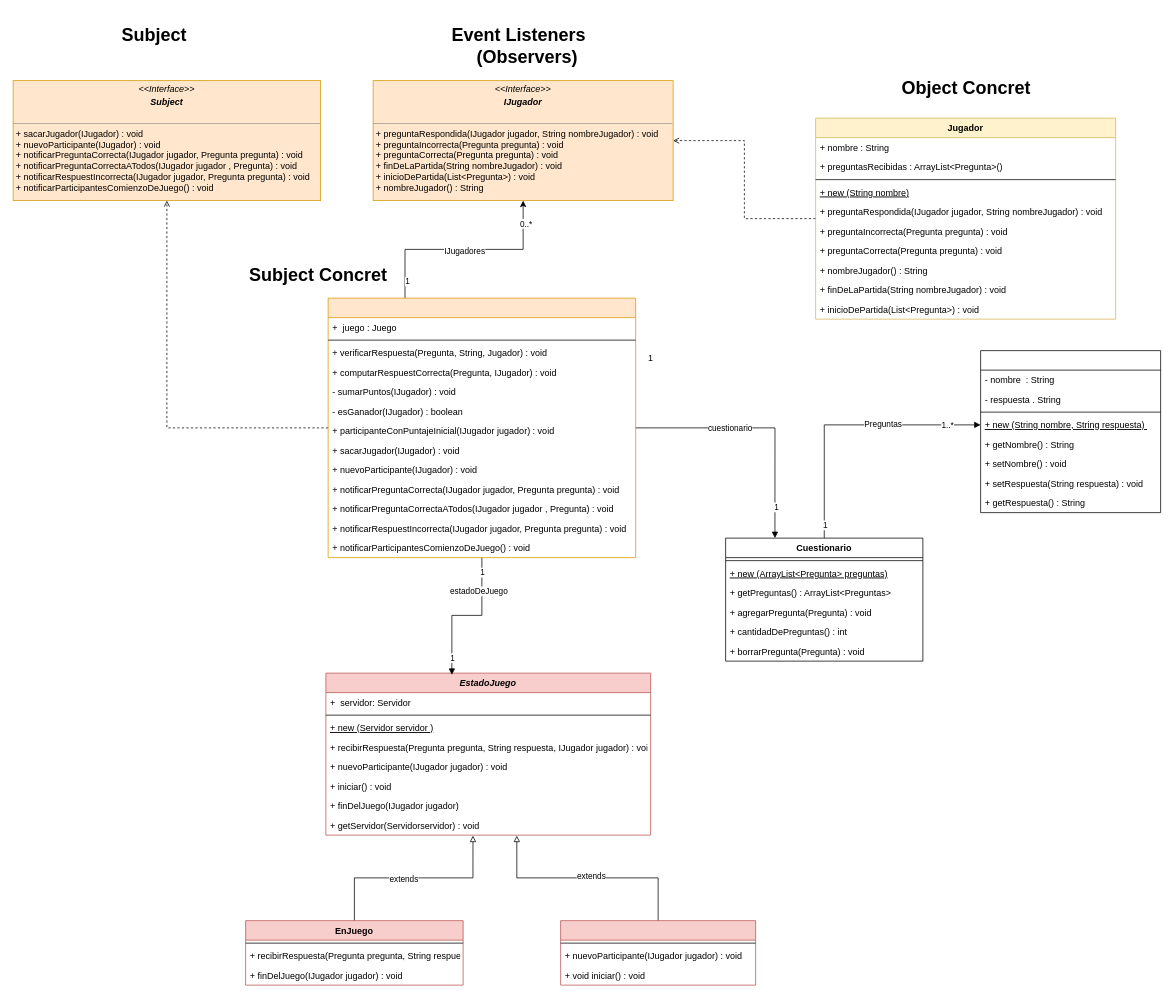
Some shapes in this 1174 by 1000 pixel diagram are drawn without their labels. Each missing label, with the box of its shape:
EsperandoJugadores: (560, 920, 756, 985)
Pregunta: (980, 350, 1161, 513)
Servidor: (327, 297, 636, 558)
